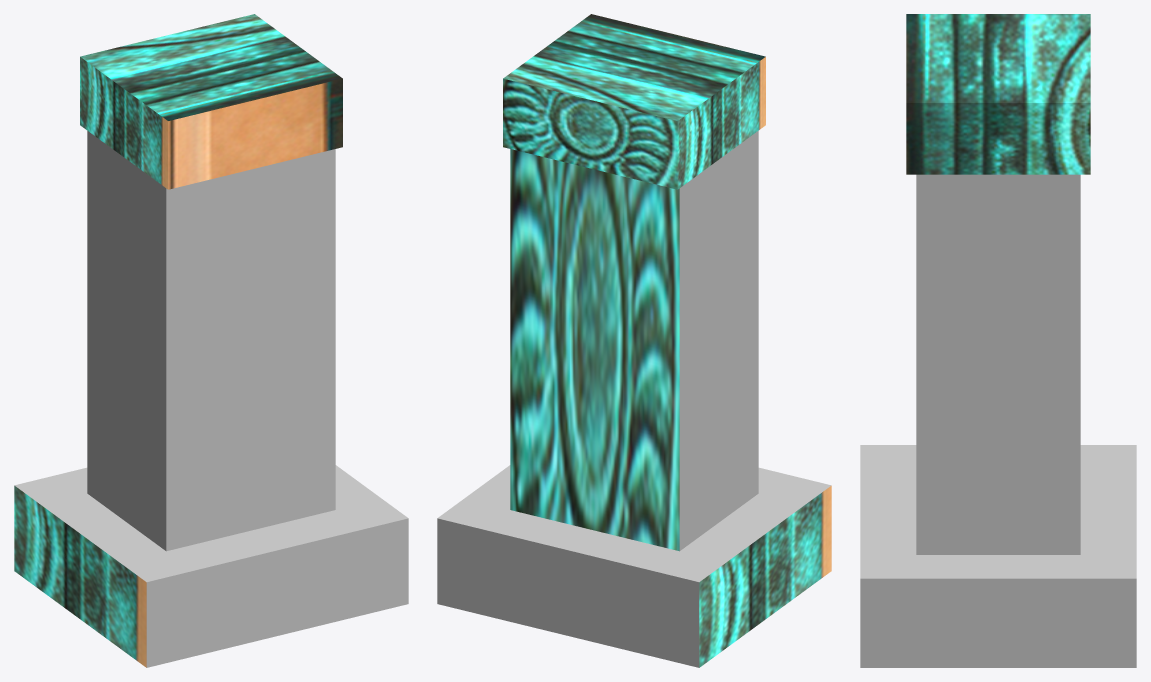
Rendered from SM_AF_Wayfinder_C_LOD1.glb.
The picture shows the model from 3 angles, left to right: view 1: azimuth 30°, elevation 25°; view 2: azimuth 150°, elevation 25°; view 3: azimuth 270°, elevation 25°; orthographic projection. The views are drawn at different scales.
Parts seen in each view (by area): view 1: SM_AF_Wayfinder_C_LOD1; view 2: SM_AF_Wayfinder_C_LOD1; view 3: SM_AF_Wayfinder_C_LOD1.
Boxes of the visible parts, left/top/right/bottom form: SM_AF_Wayfinder_C_LOD1: left=14, top=14, right=408, bottom=667; SM_AF_Wayfinder_C_LOD1: left=437, top=14, right=831, bottom=667; SM_AF_Wayfinder_C_LOD1: left=860, top=14, right=1136, bottom=667.
Bounding box in the file's own units: 0.96 × 1.82 × 0.84.
Materials: 2 (1 with a texture image).
